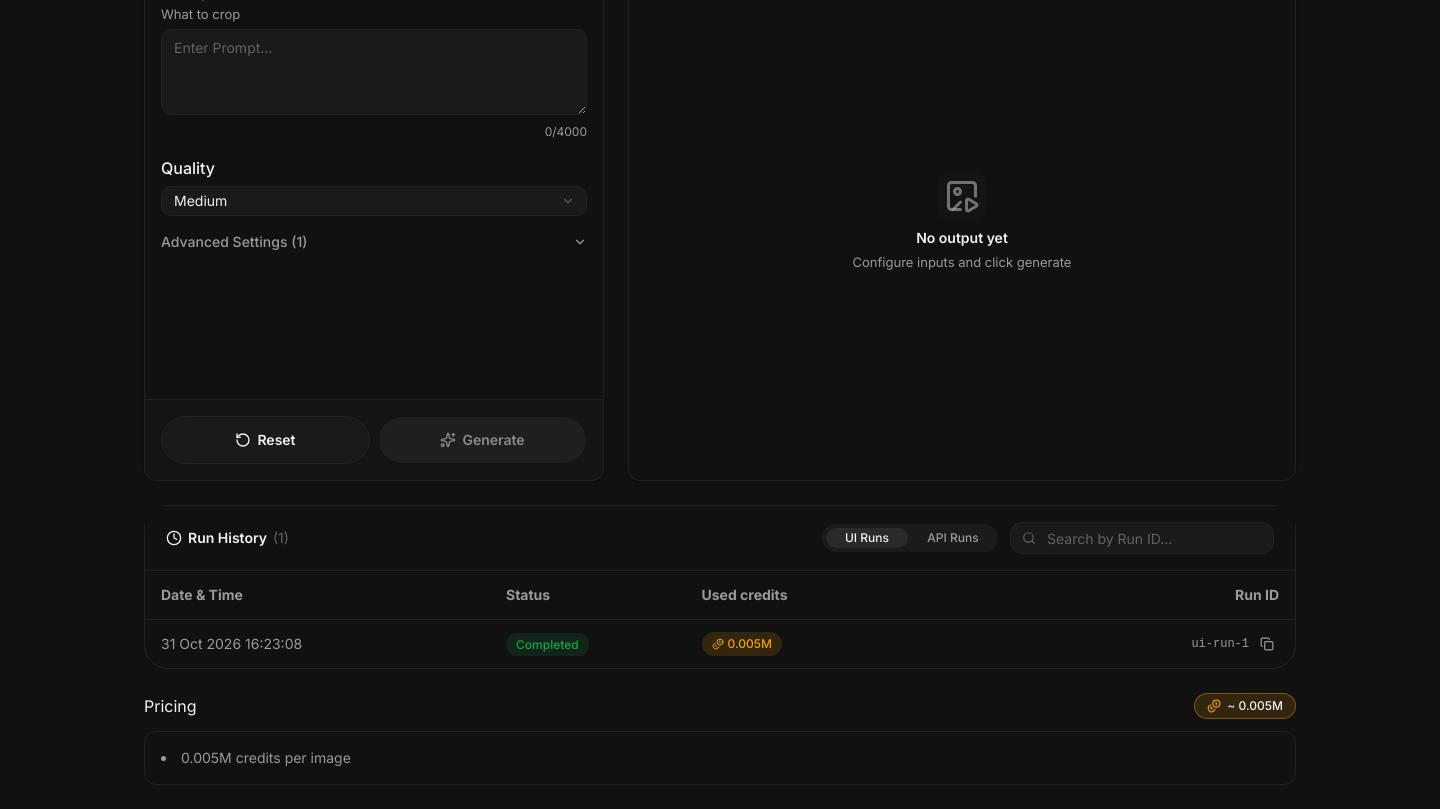
Test: ToolDetail run history › switches between UI Runs and API Runs tabs and displays the respective runs
The image size is (1440, 809).
(page scrolled)
Expected: the text "ui-run-1" is shown, x1=1191 y1=636 x2=1249 y2=652
Expected: the text "api-run-1" is not shown
Step 1. Click the button "API Runs" → (953, 538), box x1=912 y1=528 x2=994 y2=548
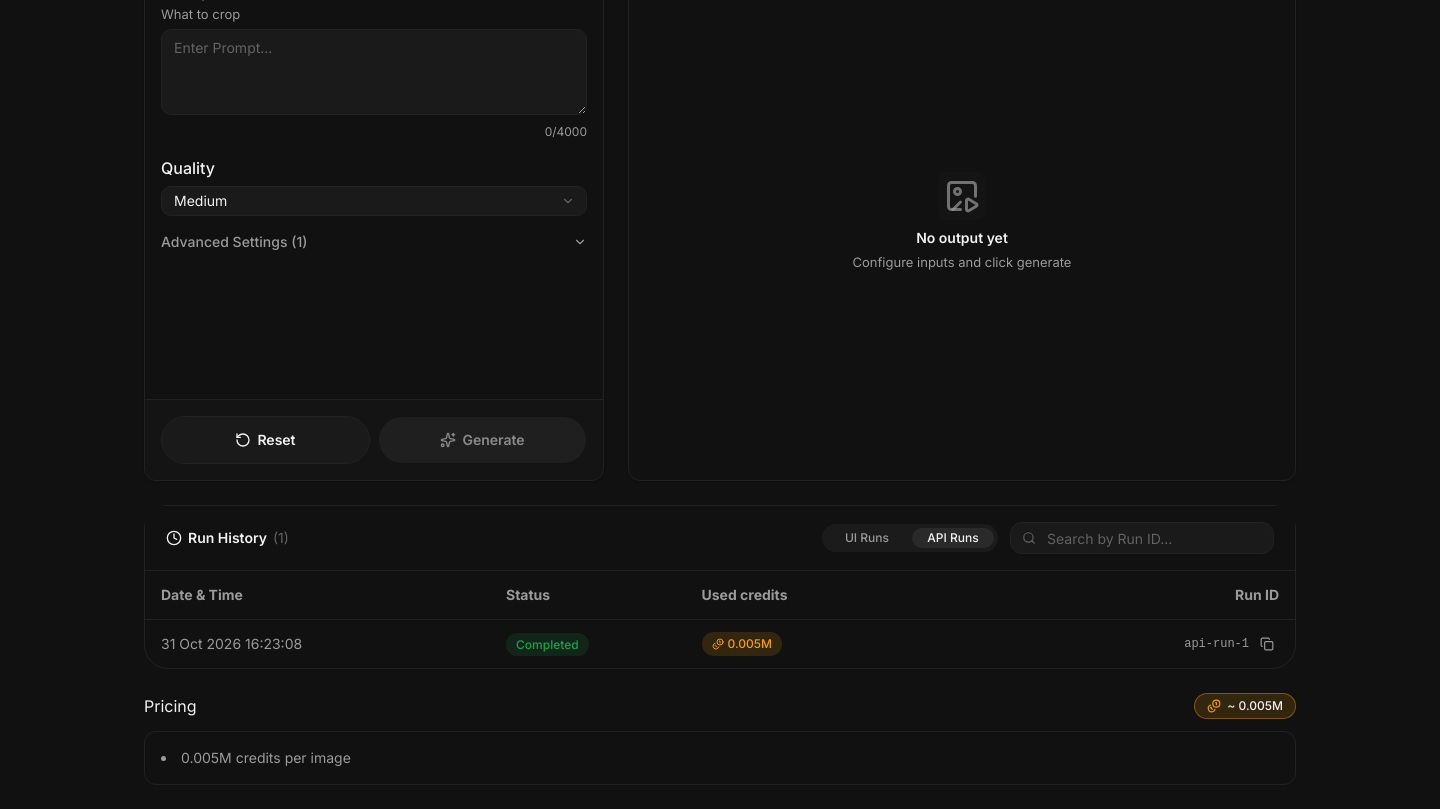
Now the text "api-run-1" is shown, box x1=1184 y1=636 x2=1249 y2=652
Now the text "ui-run-1" is gone
